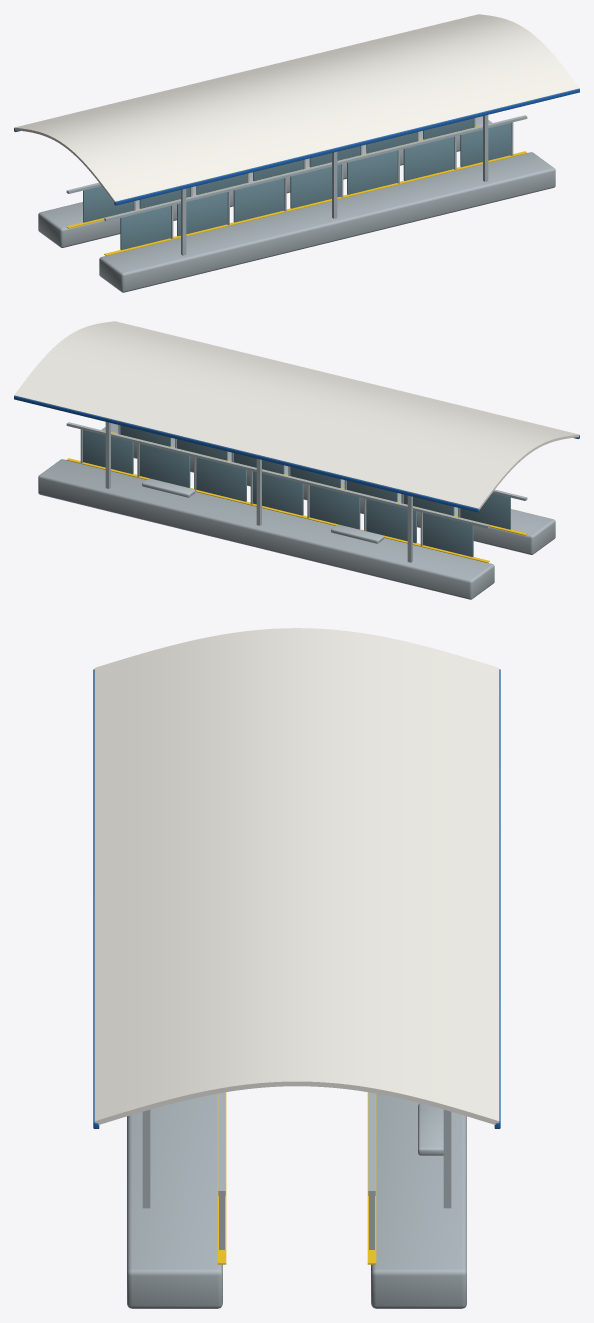
The model's file is lrt-platform.glb.
3 renders of one model, top to bottom at view 1: azimuth 30°, elevation 25°; view 2: azimuth 150°, elevation 25°; view 3: azimuth 270°, elevation 25°, orthographic. The views are drawn at different scales.
Parts seen in each view (by area): view 1: lrt-platform; view 2: lrt-platform; view 3: lrt-platform.
Part boxes in pixels (left/top/right/bottom): lrt-platform: left=14, top=14, right=579, bottom=292; lrt-platform: left=14, top=321, right=579, bottom=599; lrt-platform: left=93, top=628, right=500, bottom=1308.
Bounding box in the file's own units: 24.6 × 6.17 × 9.34.
